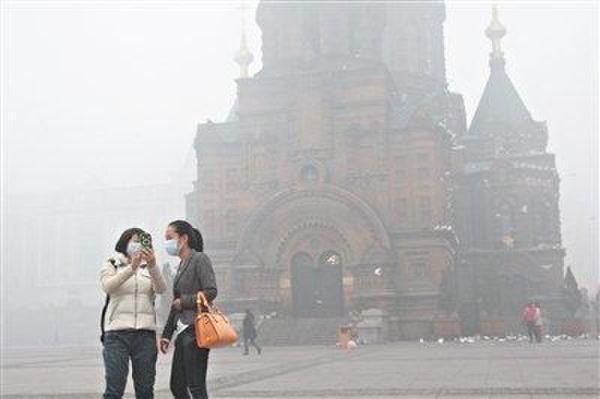person: (97, 228, 167, 399), (159, 220, 218, 399), (241, 308, 262, 356), (520, 302, 539, 344), (533, 303, 543, 344)
